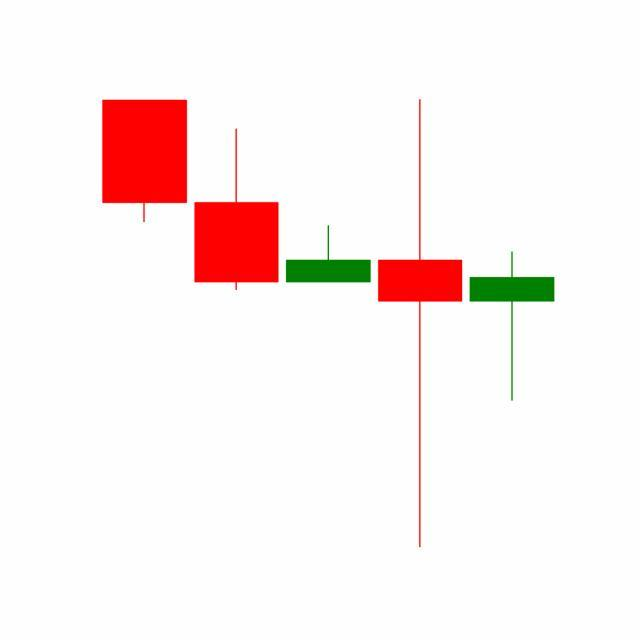Spinning Top: (466, 250, 559, 404)
